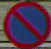No waiting: (5, 1, 47, 44)
